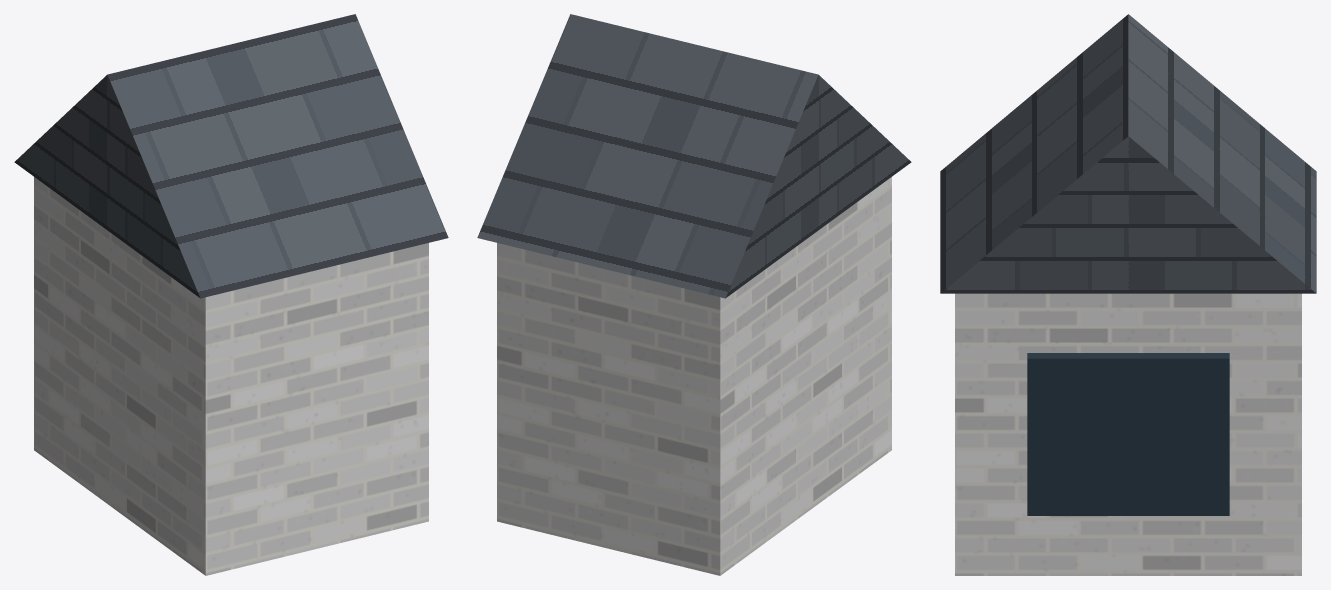
File: roof-pitch-dormer.obj
The picture shows the model from 3 angles, left to right: view 1: azimuth 30°, elevation 25°; view 2: azimuth 150°, elevation 25°; view 3: azimuth 270°, elevation 25°; orthographic projection.
Parts seen in each view (by area): view 1: part1, part2; view 2: part1, part2; view 3: part2, part1, part3.nocast.
Boxes of the visible parts, box(x1,y1,x2,y2) form: part1: box(34, 177, 428, 575); part2: box(14, 14, 448, 298); part1: box(497, 177, 891, 575); part2: box(477, 14, 911, 298); part2: box(940, 14, 1316, 293); part1: box(955, 293, 1301, 575); part3.nocast: box(1027, 353, 1229, 515).
Bounding box in the file's own units: 1 × 1.7 × 1.3.
Materials: 3 (2 with a texture image).
